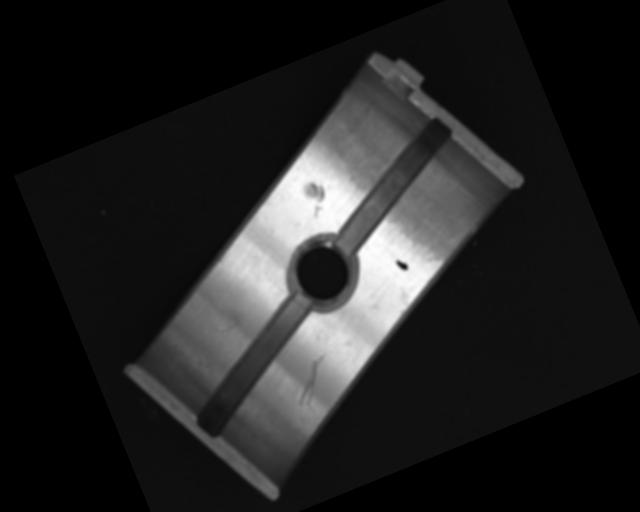blot: (394, 256, 409, 273)
bruise: (300, 176, 334, 220)
gap: (164, 288, 342, 440), (307, 113, 480, 256)
hole: (276, 229, 366, 319)
nick: (283, 352, 339, 410), (214, 318, 240, 335)
